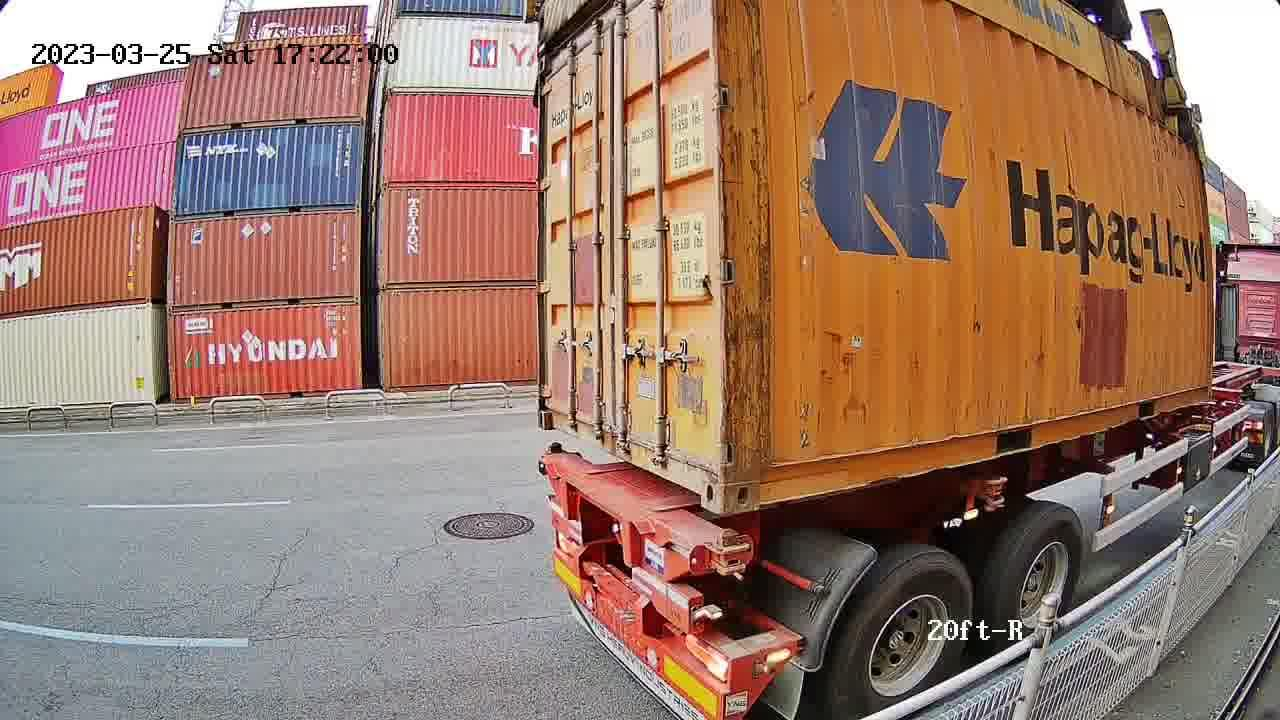Chassis: (539, 453, 746, 580)
Cone: (713, 527, 748, 581), (542, 441, 563, 457)
Hole_L: (722, 443, 792, 512), (536, 390, 574, 434)
Hole_R: (681, 437, 721, 514)
Tire: (837, 553, 973, 714), (1001, 510, 1083, 644)
